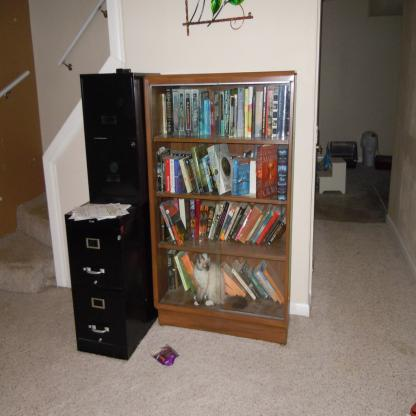book: (157, 143, 288, 199), (161, 85, 290, 139), (166, 246, 281, 304), (159, 201, 286, 247)
